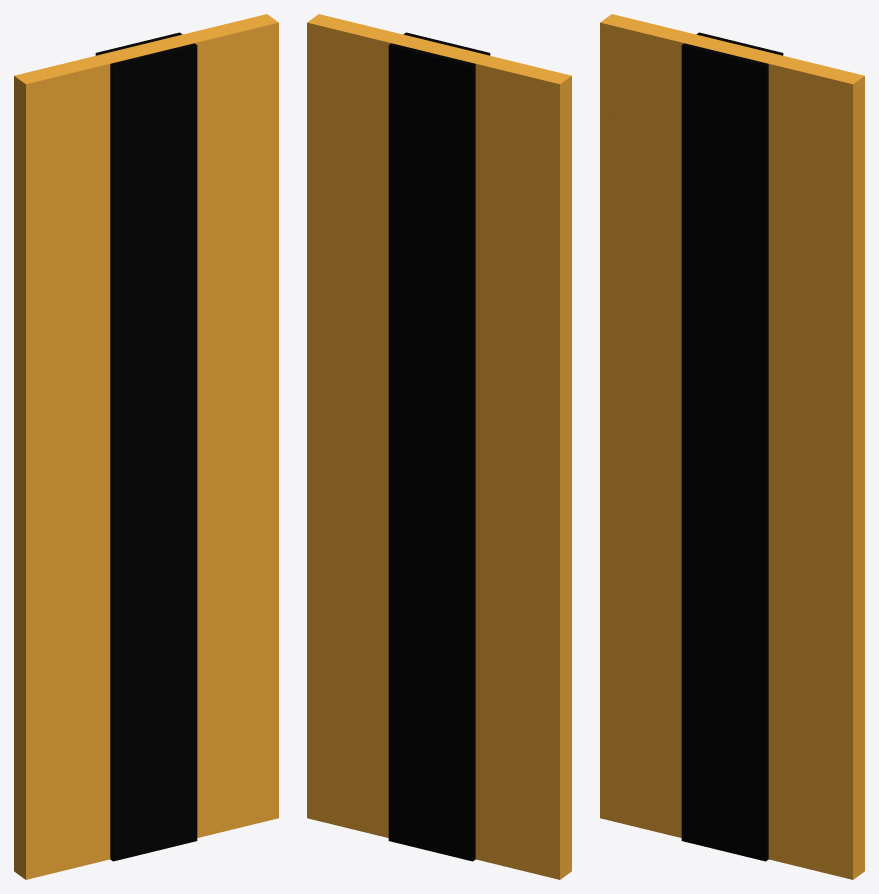
The model's file is Wall H 9.fbx.
3 views of the same model, side by side, from view 1: azimuth 30°, elevation 25°; view 2: azimuth 150°, elevation 25°; view 3: azimuth 330°, elevation 25° (orthographic).
Parts seen in each view (by area): view 1: Wall H 9; view 2: Wall H 9; view 3: Wall H 9.
Part boxes in pixels (x1,y1,x2,y2): Wall H 9: [14, 14, 278, 879]; Wall H 9: [307, 14, 571, 879]; Wall H 9: [600, 14, 864, 879].
Size of the model in its own units: 249 by 747 by 30.
Materials: 1 (1 with a texture image).
